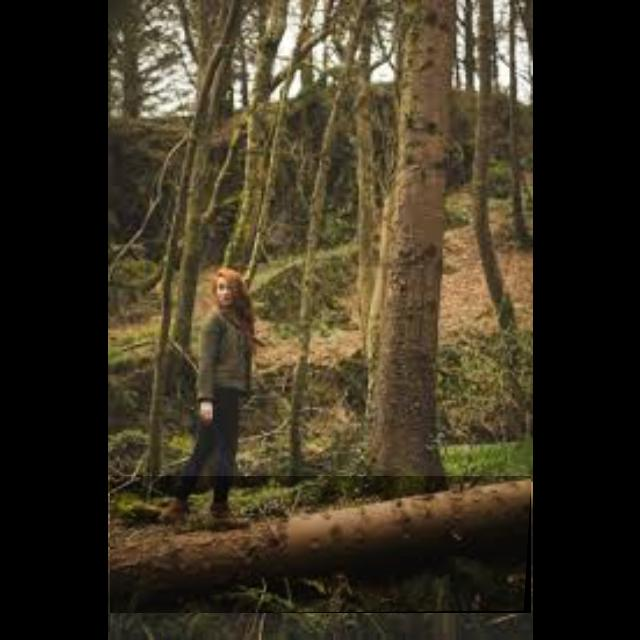Fallen Tree: (110, 476, 532, 614)
